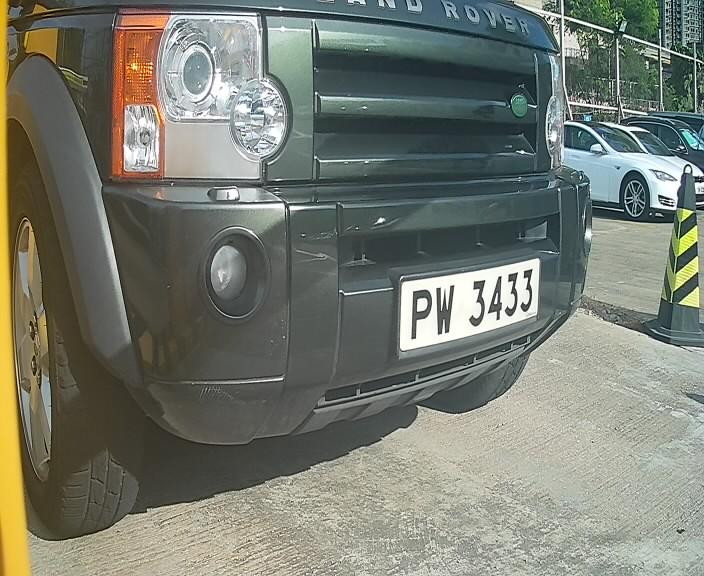Car: (23, 24, 654, 487)
License Plate: (387, 245, 544, 363)
